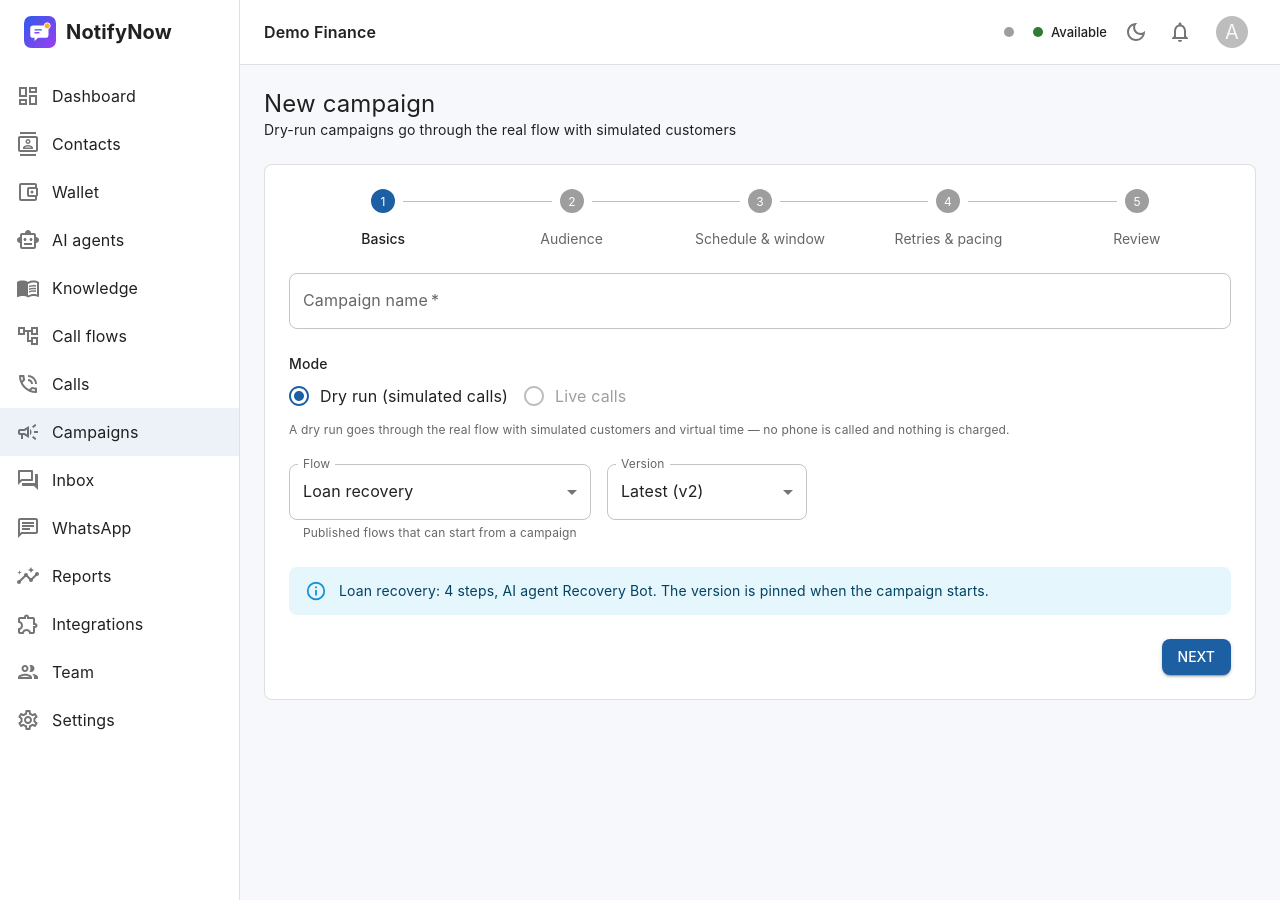
Test: /campaigns/new wizard › server field errors go back to their step; Edit links on the review jump to steps
Type "Prefilled" into the field labelled "Campaign name *" at (760, 301), box 289,273 -> 1231,329
Click the button "Next" at (1196, 657), box 1162,639 -> 1231,675
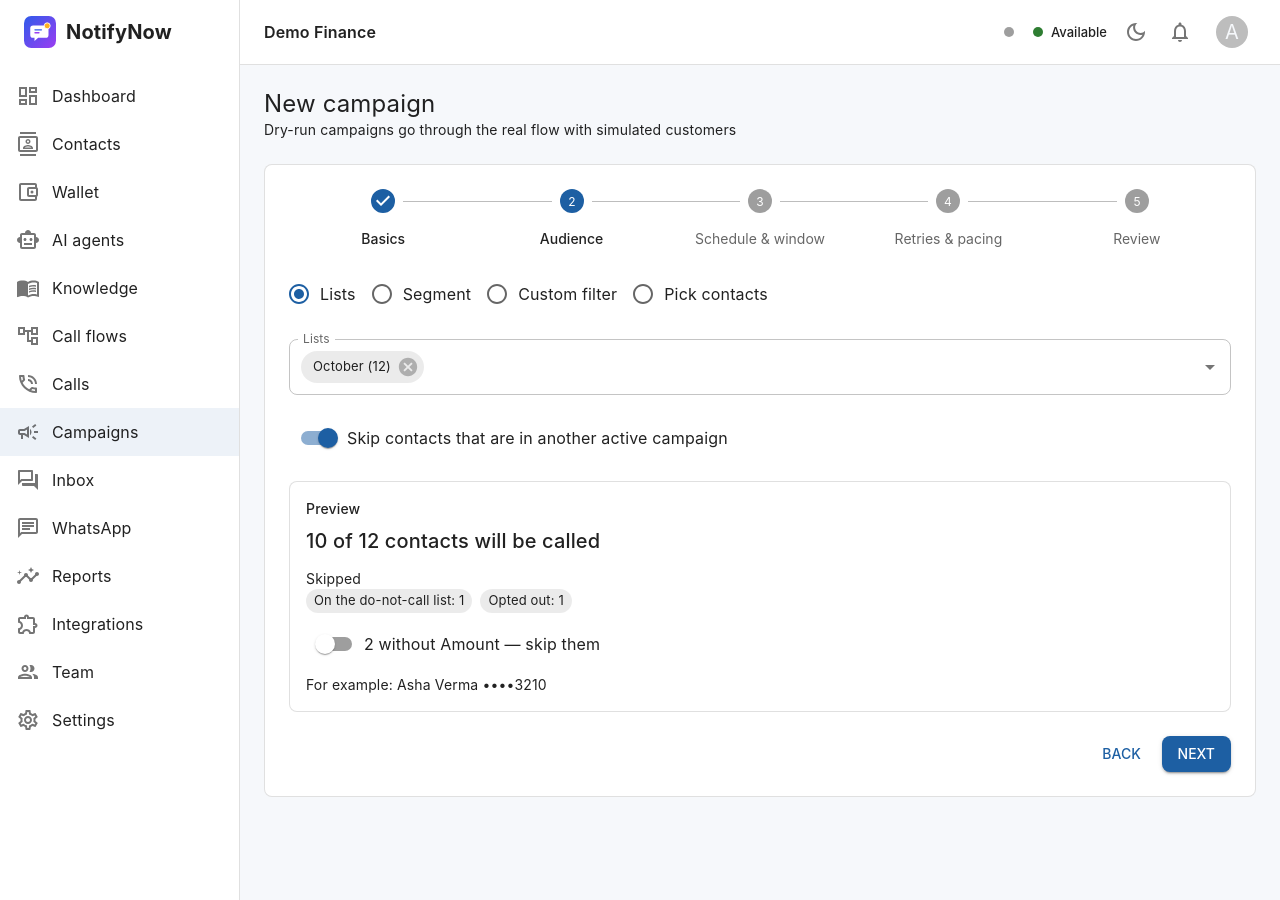
Now the heading "10 of 12 contacts will be called" is shown, box 306,529 -> 600,553
Click the button "Next" at (1196, 754), box 1162,736 -> 1231,772
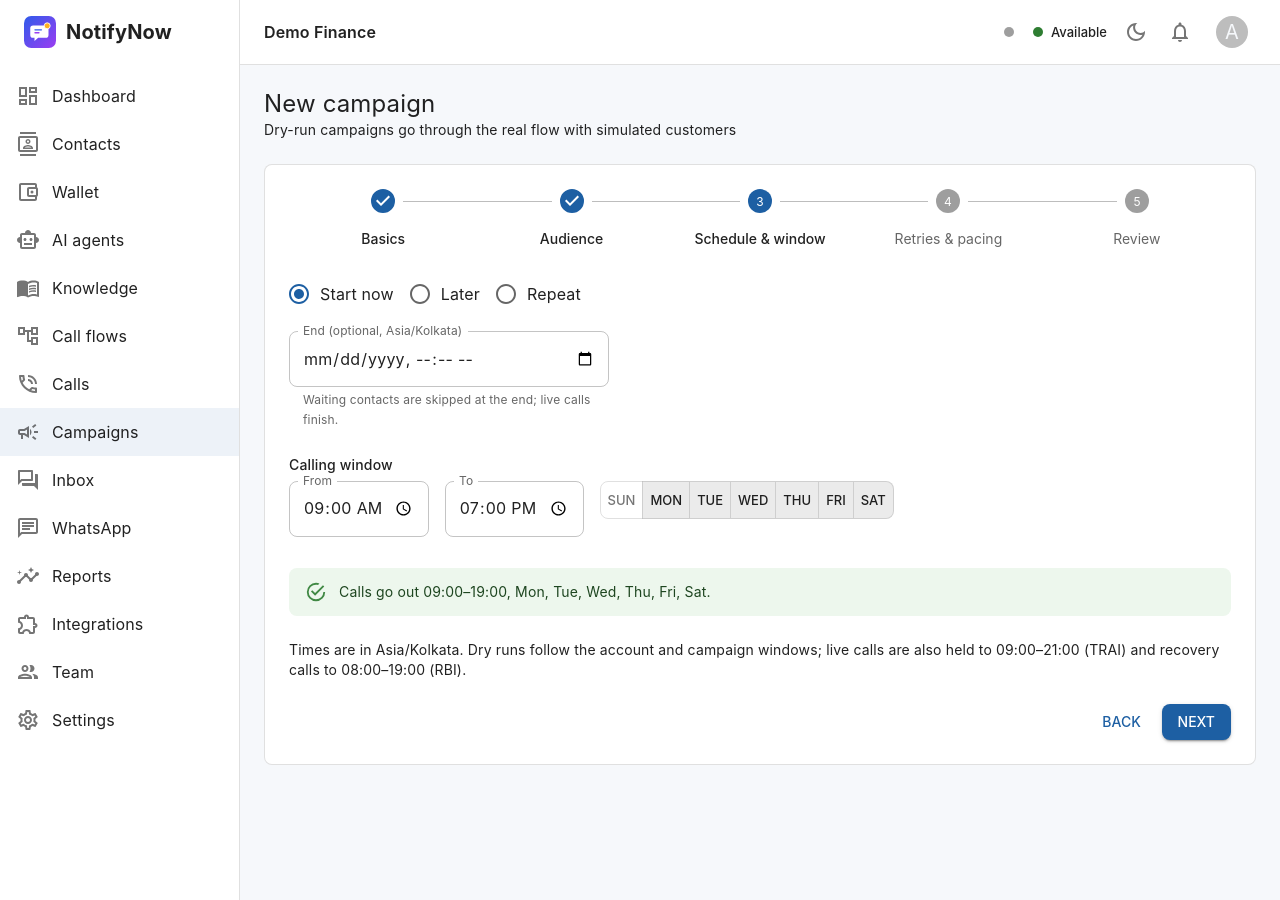
Click the button "Next" at (1196, 722), box 1162,704 -> 1231,740
(page scrolled)
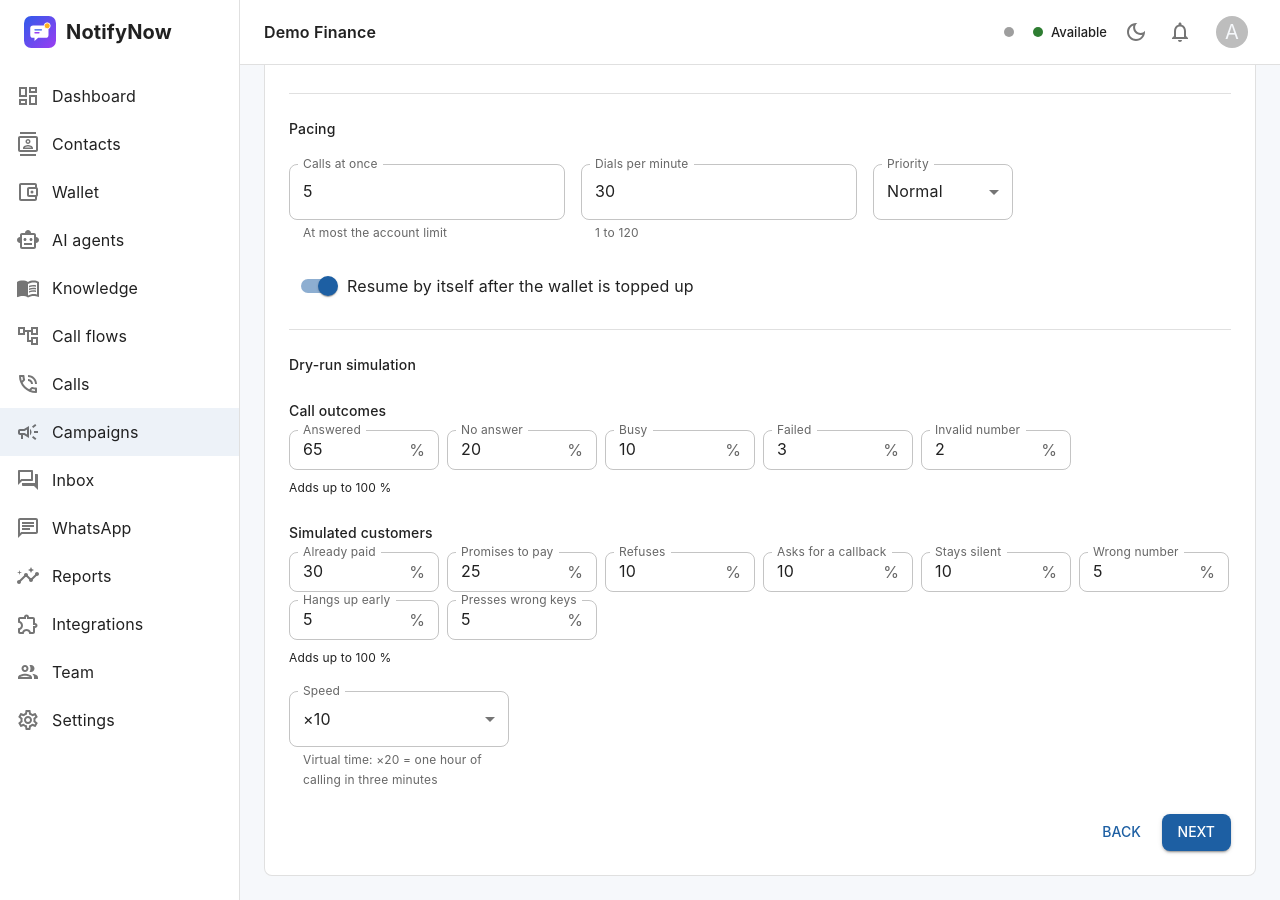
Click the button "Next" at (1196, 833), box 1162,814 -> 1231,851
(page scrolled)
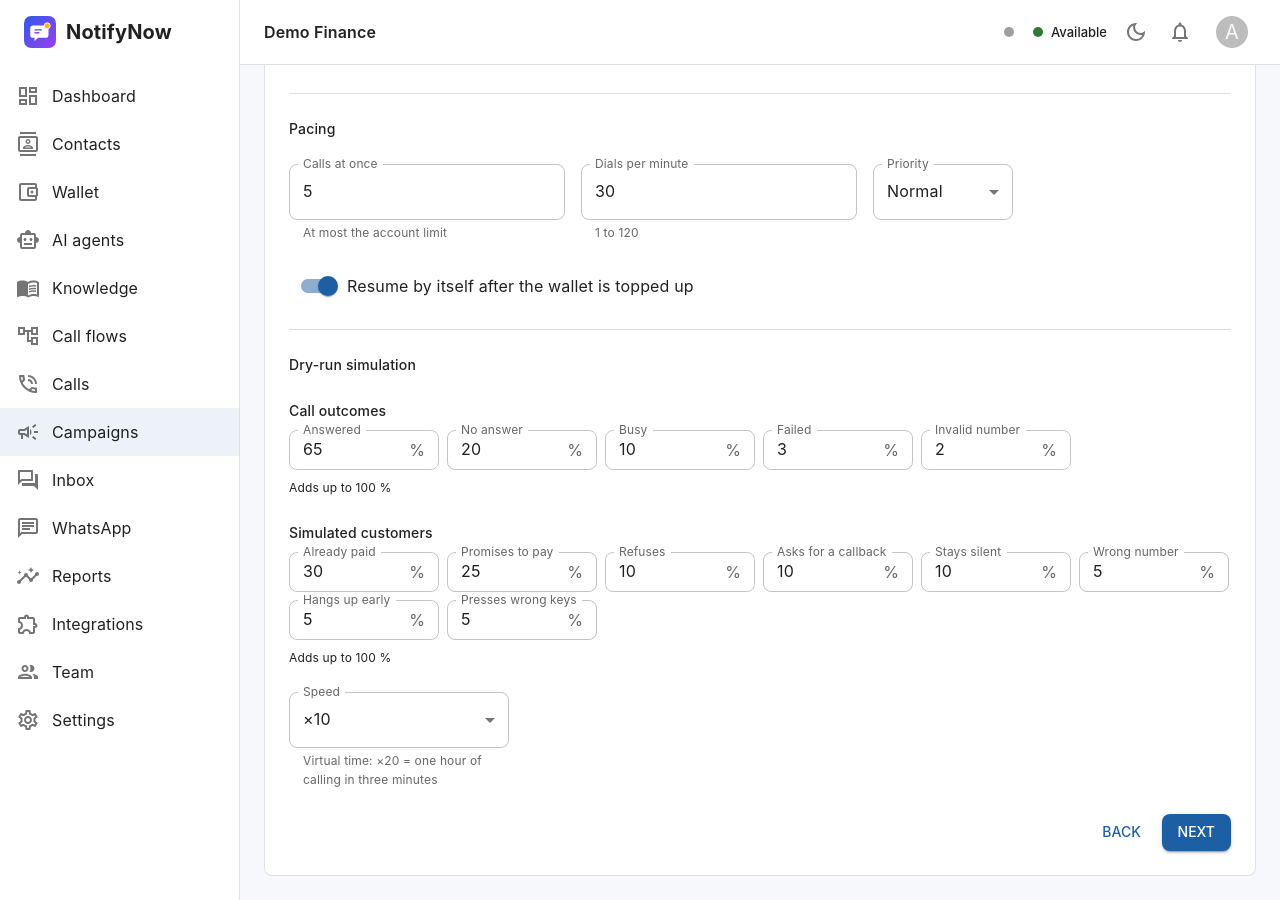
Now the heading "Dry-run simulation" is shown, box 289,356 -> 416,373
Click the button "Next" at (1196, 833), box 1162,814 -> 1231,851
(page scrolled)
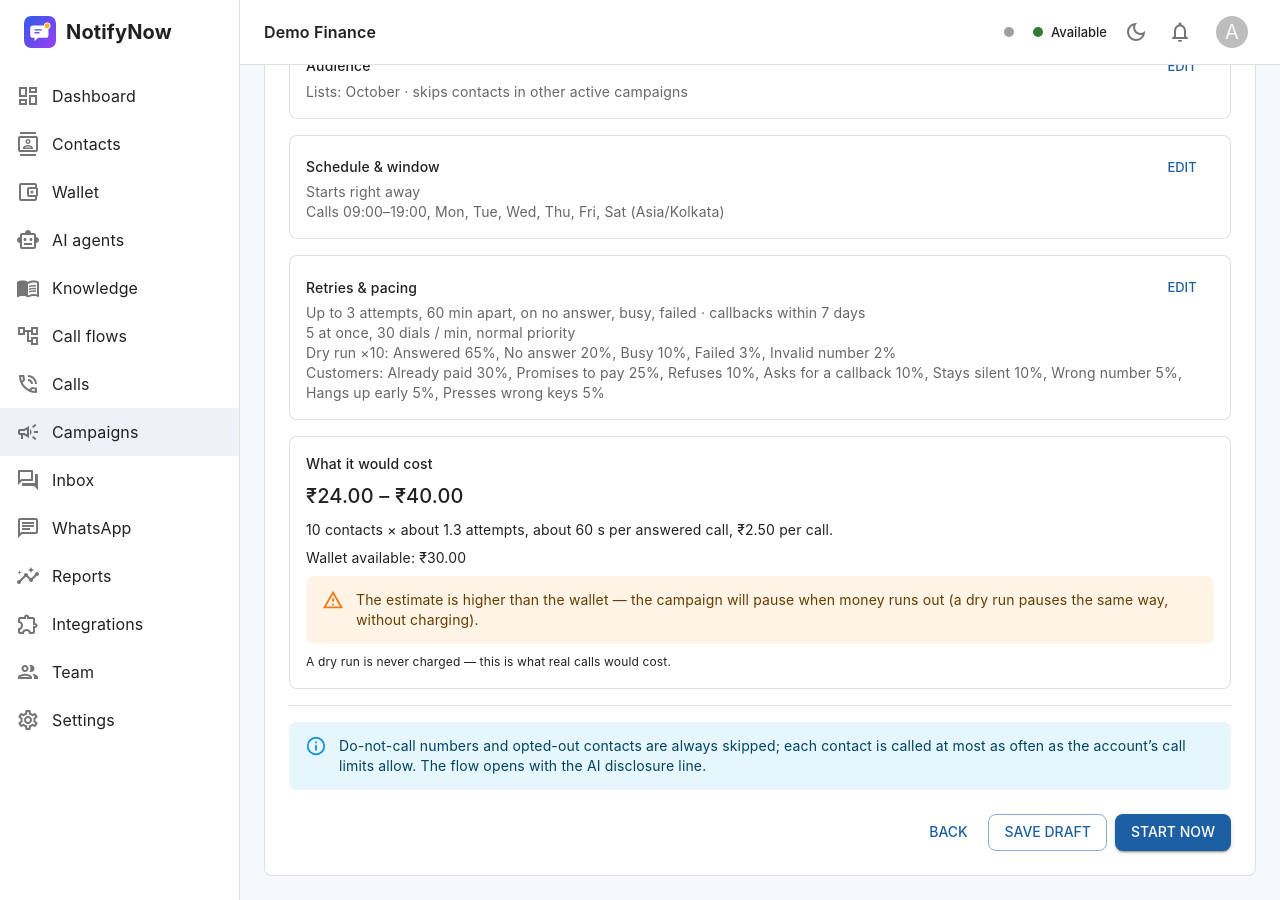
Now the element named "Estimate" is shown, box 289,436 -> 1231,689
Click the button with aria-label "Edit Audience" at (1182, 66), box 1150,51 -> 1214,82
(page scrolled)
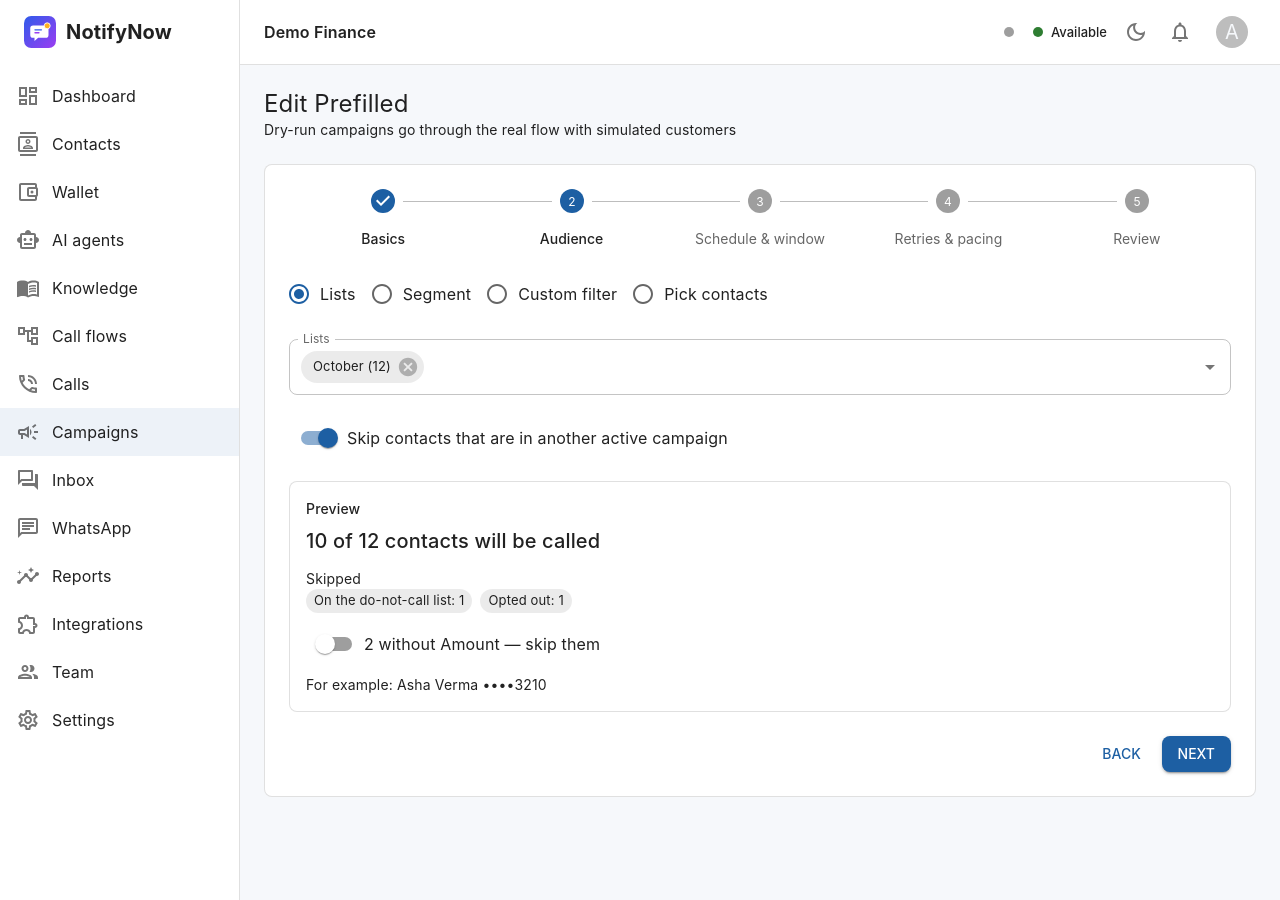
Now the element named "Audience preview" is shown, box 289,481 -> 1231,712
